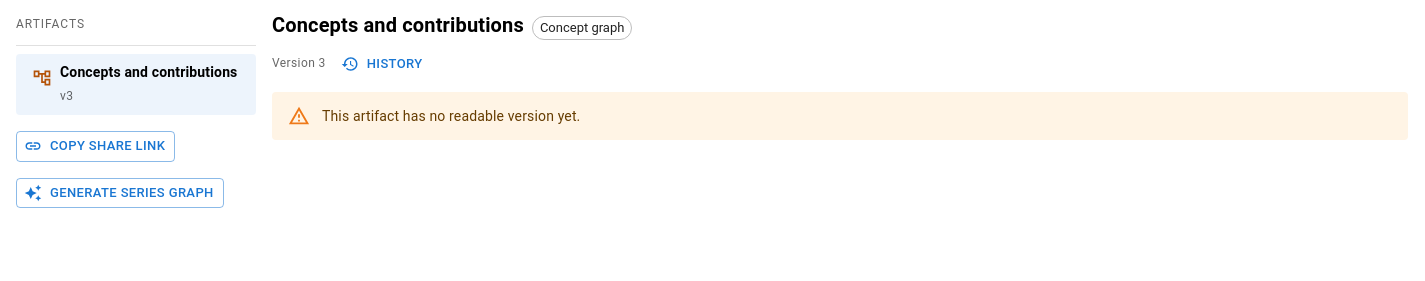
Test: the share link › says when the passcode could not be read
This screenshot has width=1425, height=281.
Click the button "Copy share link" at (96, 146), box [16,131,175,162]
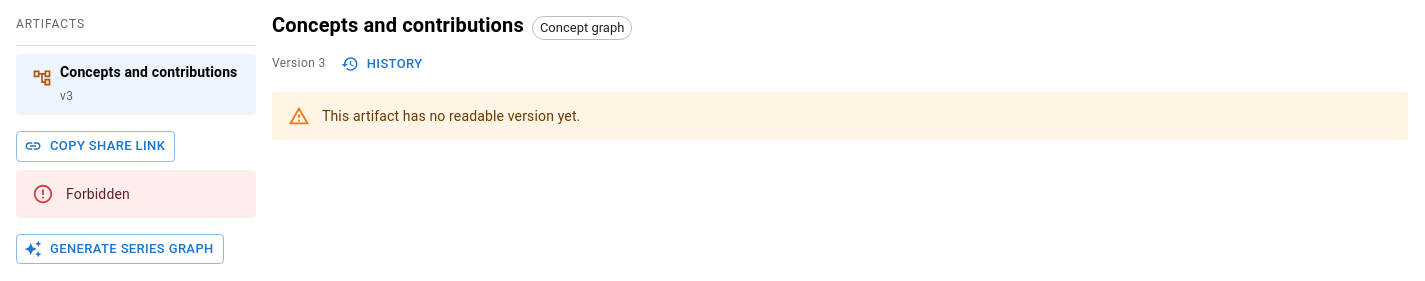
Check: the text "Forbidden" is shown, box [66,186,130,202]
